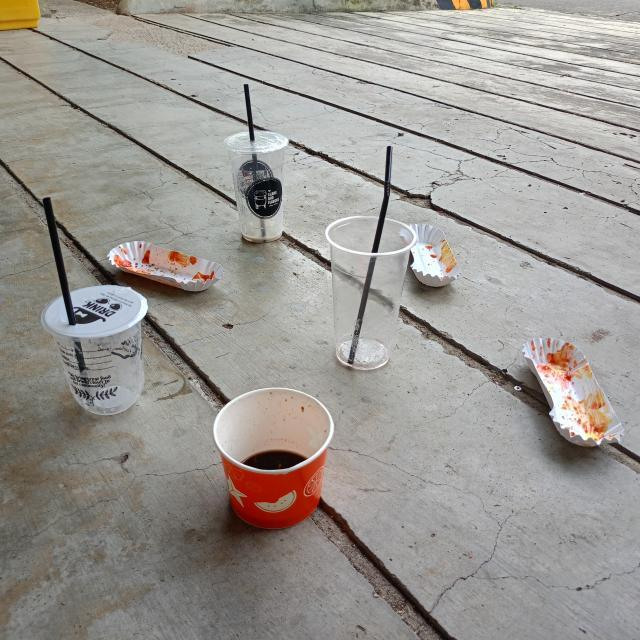recyclable waste: (204, 376, 344, 534), (42, 280, 158, 426), (321, 206, 418, 374), (514, 326, 630, 456), (216, 120, 301, 251), (98, 232, 232, 296), (391, 215, 465, 296)
